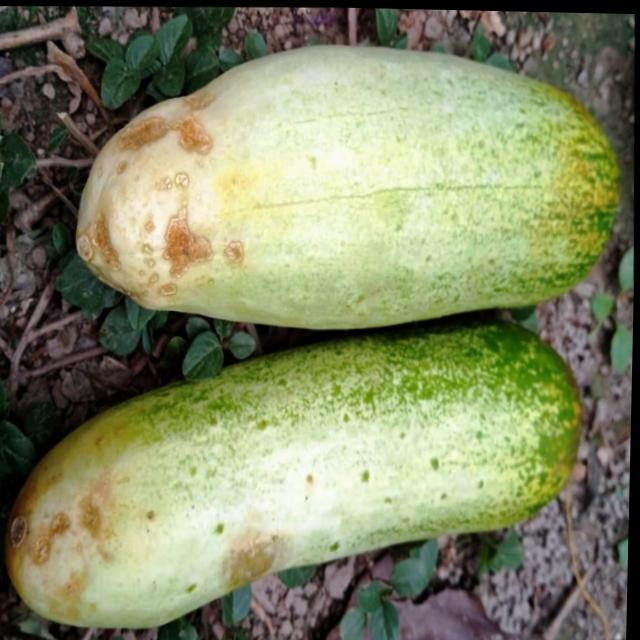Belly-Rot: (89, 81, 252, 323), (1, 415, 134, 625), (221, 525, 283, 592)
